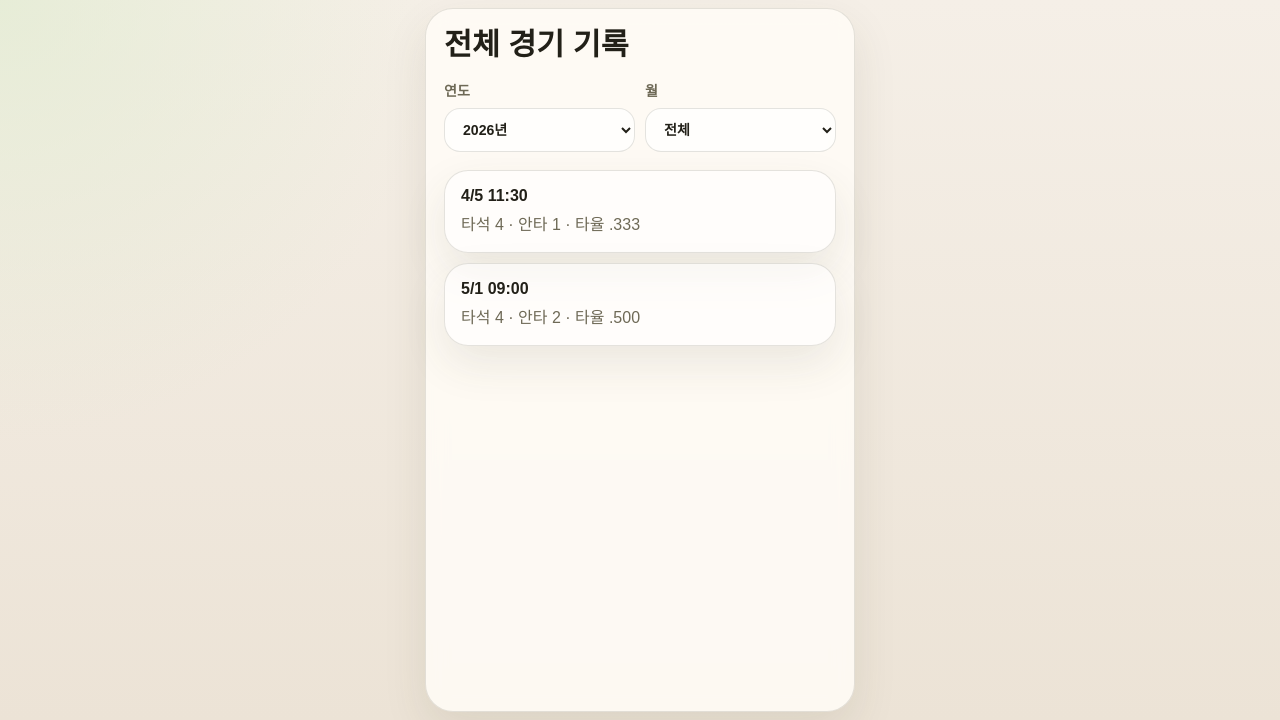
Test: GamesPageClient › 월을 선택하면 전체 목록 안에서 해당 월 경기만 보여준다
The image size is (1280, 720).
Expected: the text "4/5 11:30" is shown, [461,187,528,204]
Select "4월" in the dropdown labelled "월". click: [740, 130]
box: [645,108,836,152]
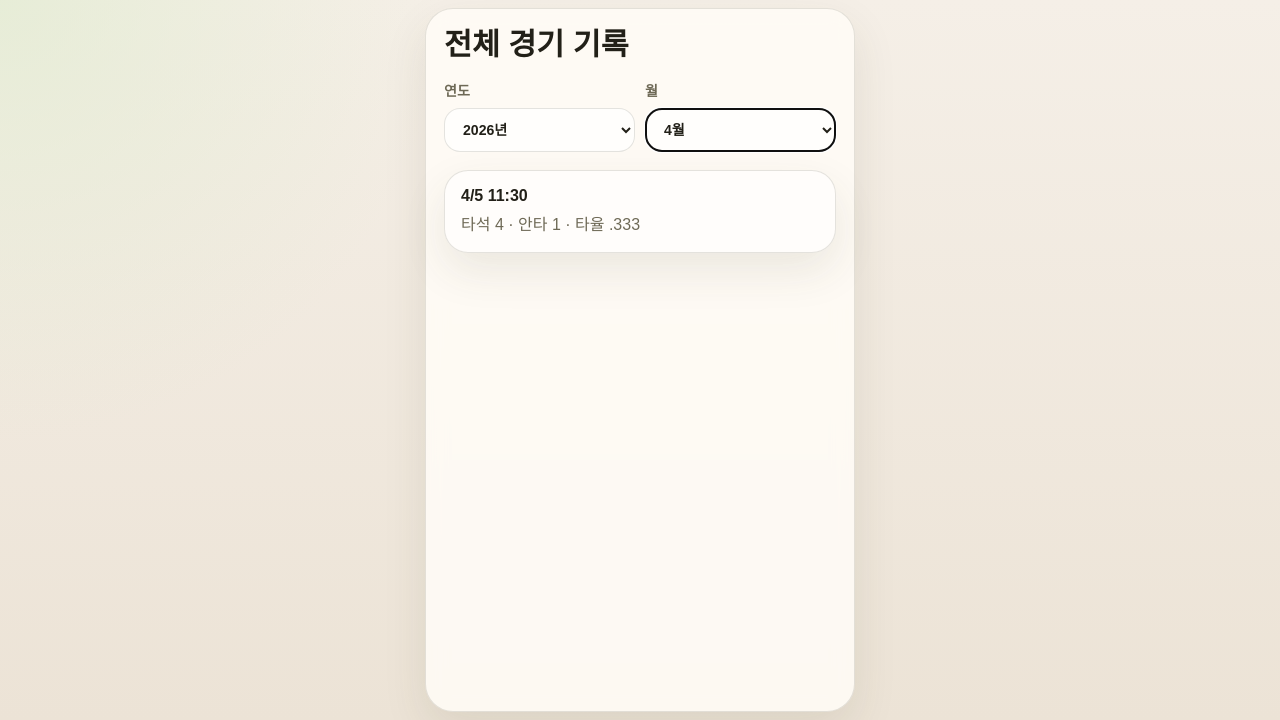
Expected: the text "4/5 11:30" is shown, [461,187,528,204]
Now the link "5/1 09:00" is gone
